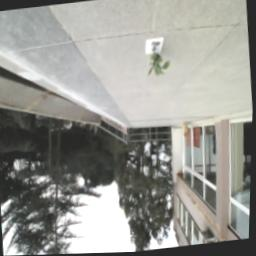herb: (146, 48, 172, 84)
